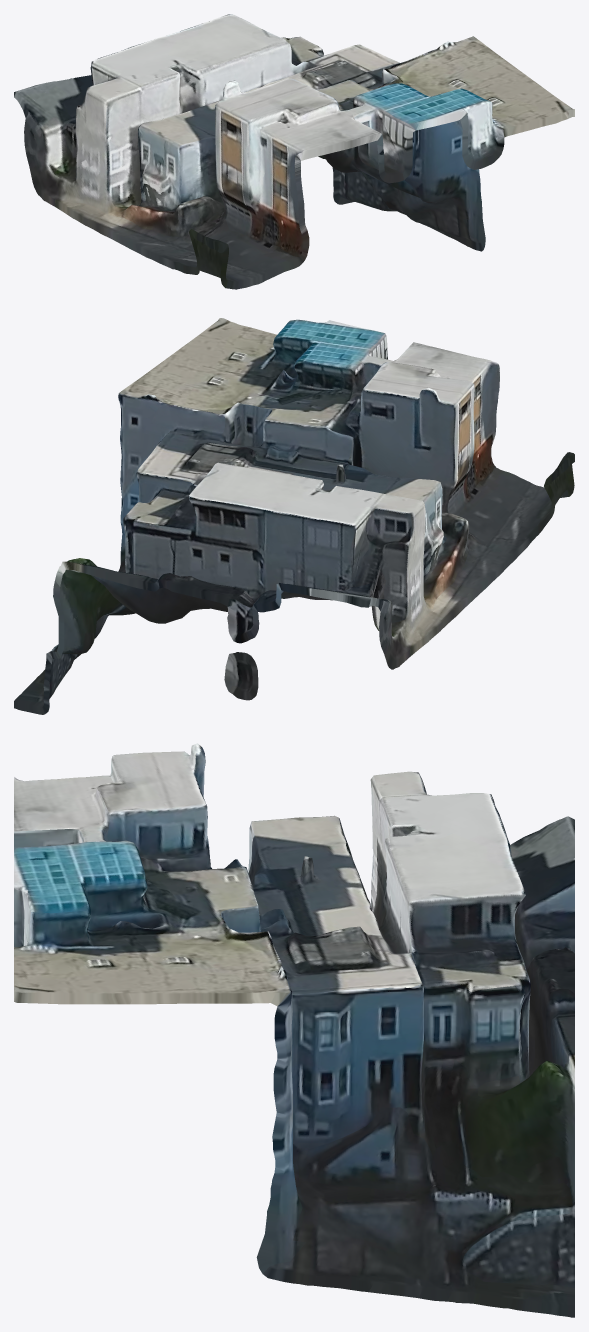
The model's file is z20-167746-405192-h0-yup-uvflip-v3-world.glb.
The picture shows the model from 3 angles, top to bottom: view 1: azimuth 30°, elevation 25°; view 2: azimuth 150°, elevation 25°; view 3: azimuth 270°, elevation 25°; orthographic projection. The views are drawn at different scales.
Size of the model in its own units: 30.16 by 23.24 by 30.32.
Materials: 1 (1 with a texture image).
